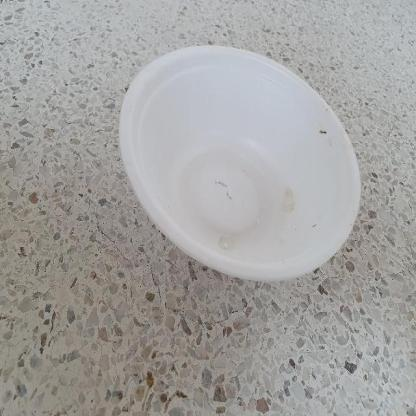Glass Cup: (119, 45, 361, 284), (119, 46, 361, 282)
